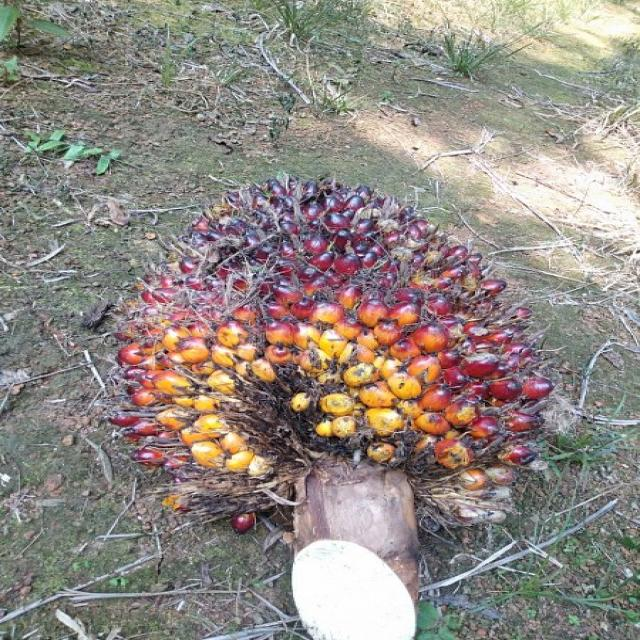fraksi 1: (112, 168, 547, 523)
